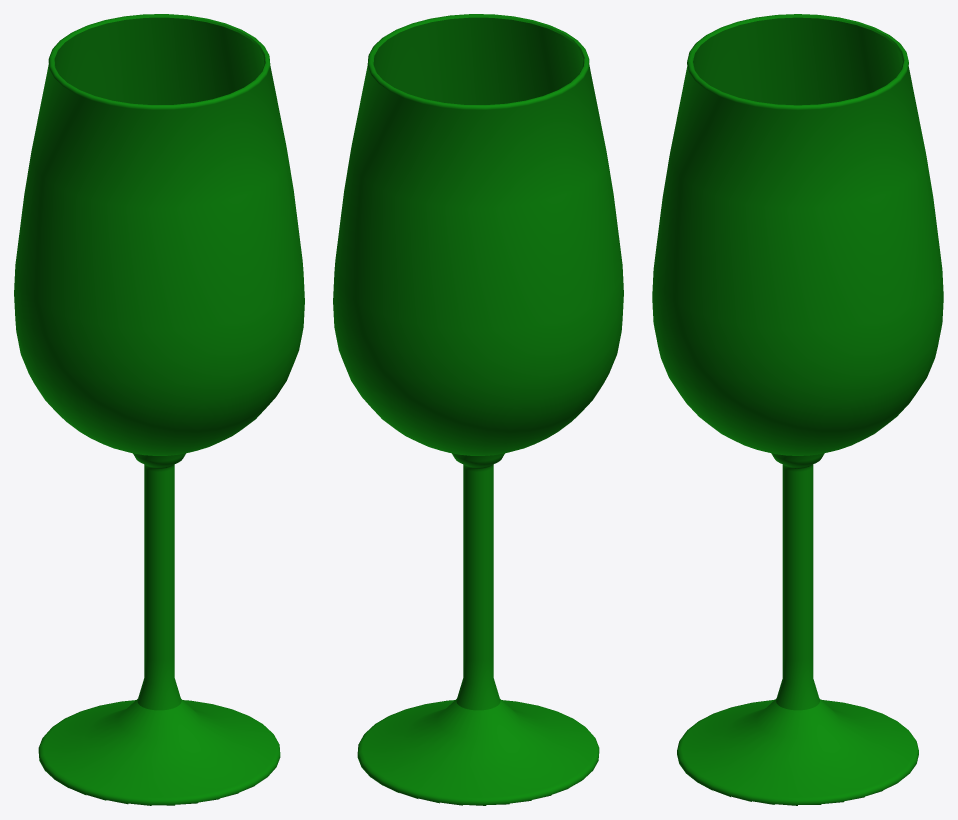
The model's file is WineGlass_Double.FBX.
3 views of the same model, side by side, from view 1: azimuth 30°, elevation 25°; view 2: azimuth 150°, elevation 25°; view 3: azimuth 270°, elevation 25° (orthographic).
Visible parts, largest first — view 1: WineDouble1, Glass Interior, WineDouble1Interior; view 2: WineDouble1, Glass Interior, WineDouble1Interior; view 3: WineDouble1, Glass Interior, WineDouble1Interior.
Part boxes in pixels (x1,y1,x2,y2): WineDouble1: (14, 14, 304, 710); Glass Interior: (38, 699, 280, 805); WineDouble1Interior: (54, 17, 264, 104); WineDouble1: (333, 14, 623, 710); Glass Interior: (357, 699, 599, 805); WineDouble1Interior: (373, 17, 583, 104); WineDouble1: (652, 14, 943, 710); Glass Interior: (677, 698, 918, 805); WineDouble1Interior: (693, 17, 902, 105).
Size of the model in its own units: 0.0679 by 0.1787 by 0.0679.
